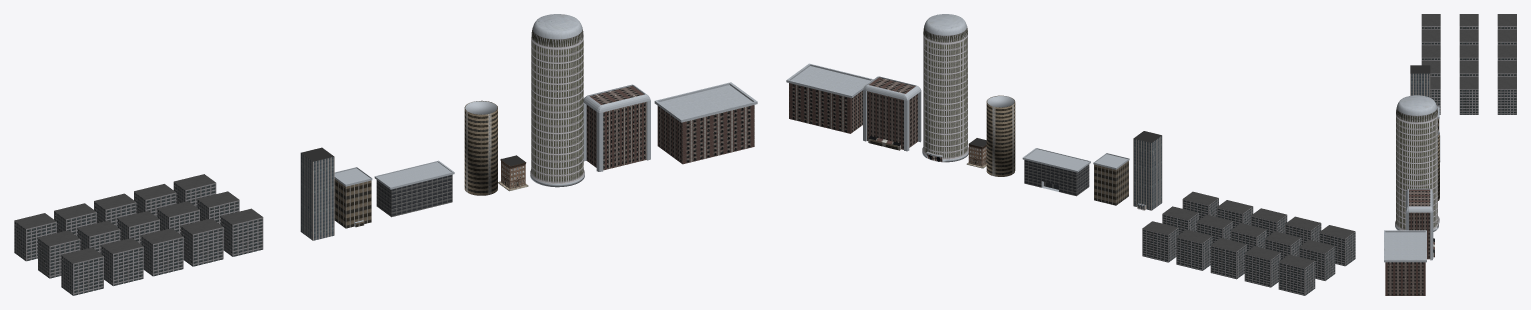
The model's file is super_low-poly_background_buildings.glb.
The picture shows the model from 3 angles, left to right: view 1: azimuth 30°, elevation 25°; view 2: azimuth 150°, elevation 25°; view 3: azimuth 270°, elevation 25°; orthographic projection. The views are drawn at different scales.
Parts seen in each view (by area): view 1: Object_30, Object_20, Object_5, Object_31, Object_14, Object_11, Object_12, Object_24, Object_7, Object_4, Object_21, Object_27; view 2: Object_30, Object_20, Object_5, Object_31, Object_14, Object_11, Object_12, Object_24, Object_7, Object_4, Object_21, Object_27; view 3: Object_20, Object_31, Object_30, Object_5, Object_14, Object_11, Object_21, Object_24, Object_25, Object_12.
Boxes of the visible parts, <box> form: Object_30: <box>14,182,263,295</box>; Object_20: <box>530,28,584,183</box>; Object_5: <box>334,82,757,226</box>; Object_31: <box>14,174,262,263</box>; Object_14: <box>657,105,754,164</box>; Object_11: <box>586,86,646,170</box>; Object_12: <box>464,100,497,195</box>; Object_24: <box>300,153,334,240</box>; Object_7: <box>376,174,452,217</box>; Object_4: <box>334,179,371,228</box>; Object_21: <box>530,14,584,187</box>; Object_27: <box>498,158,528,191</box>; Object_30: <box>1142,198,1355,295</box>; Object_20: <box>922,26,968,159</box>; Object_5: <box>786,63,1129,191</box>; Object_31: <box>1142,191,1354,267</box>; Object_14: <box>789,83,942,161</box>; Object_11: <box>867,77,917,150</box>; Object_12: <box>868,95,1015,176</box>; Object_24: <box>1133,135,1162,210</box>; Object_7: <box>1024,160,1089,196</box>; Object_4: <box>1094,161,1128,205</box>; Object_21: <box>922,14,968,162</box>; Object_27: <box>966,138,986,168</box>; Object_20: <box>1395,108,1439,230</box>; Object_31: <box>1421,14,1516,88</box>; Object_30: <box>1421,26,1516,114</box>; Object_5: <box>1384,106,1440,262</box>; Object_14: <box>1385,224,1438,295</box>; Object_11: <box>1409,189,1434,259</box>; Object_21: <box>1395,95,1439,231</box>; Object_24: <box>1410,73,1430,97</box>; Object_25: <box>1410,65,1430,73</box>; Object_12: <box>1438,130,1439,200</box>.
Bounding box in the file's own units: 813 × 186 × 175.
13 materials, 12 textured.
